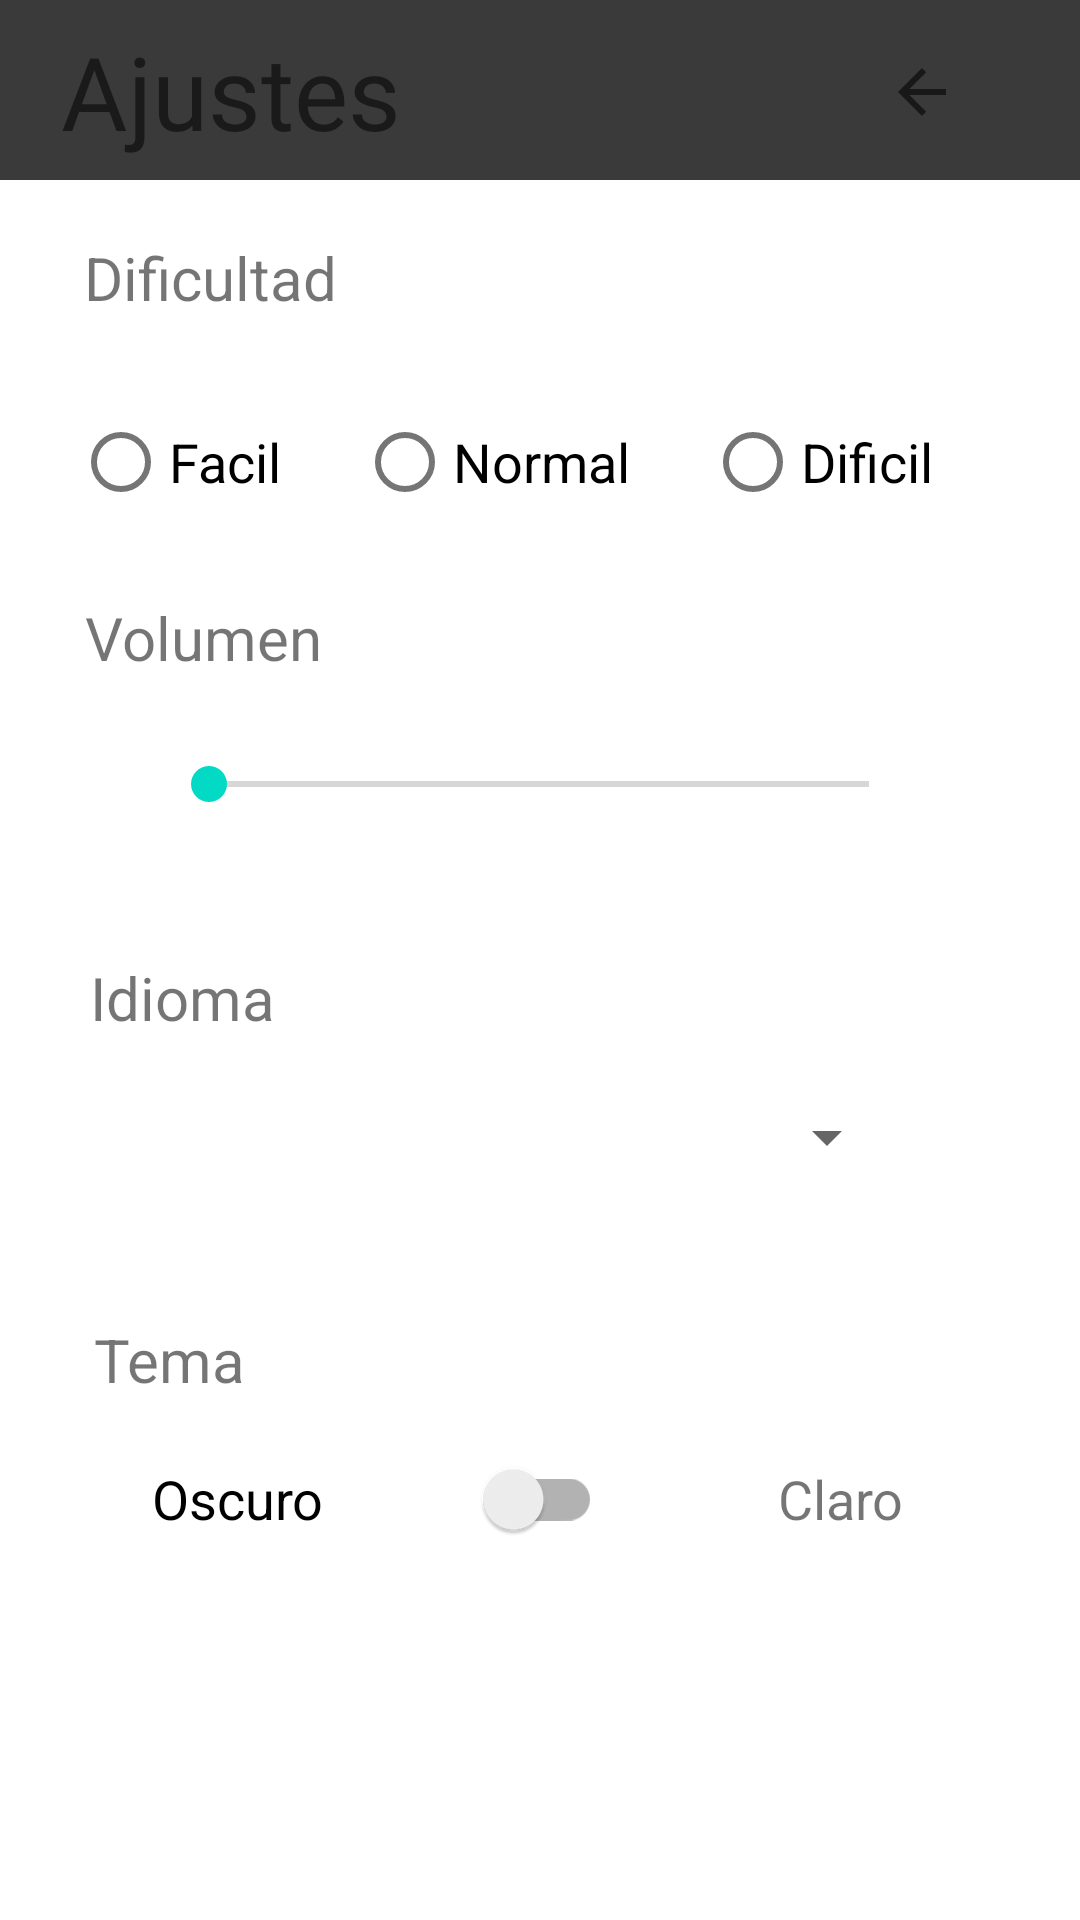

Screen size 1080 x 1920. Icon name, then its box in pixels as BBox(x1, y1, x2, y2):
Volver a la pantalla de inicio: BBox(899, 69, 946, 115)
